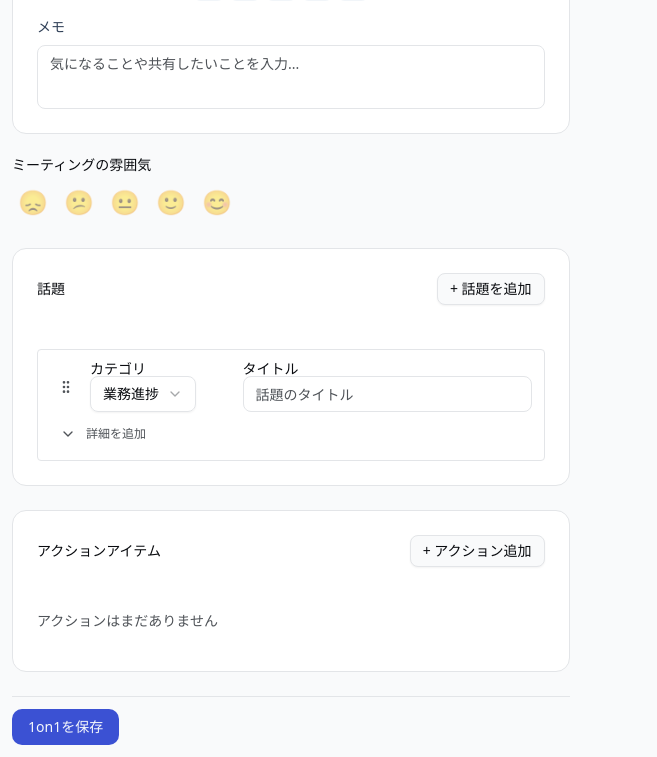
MeetingForm › renders drag handles for action items after adding
(page scrolled)
Click the button "+ アクション追加": click(477, 551) x1=410 y1=535 x2=545 y2=567
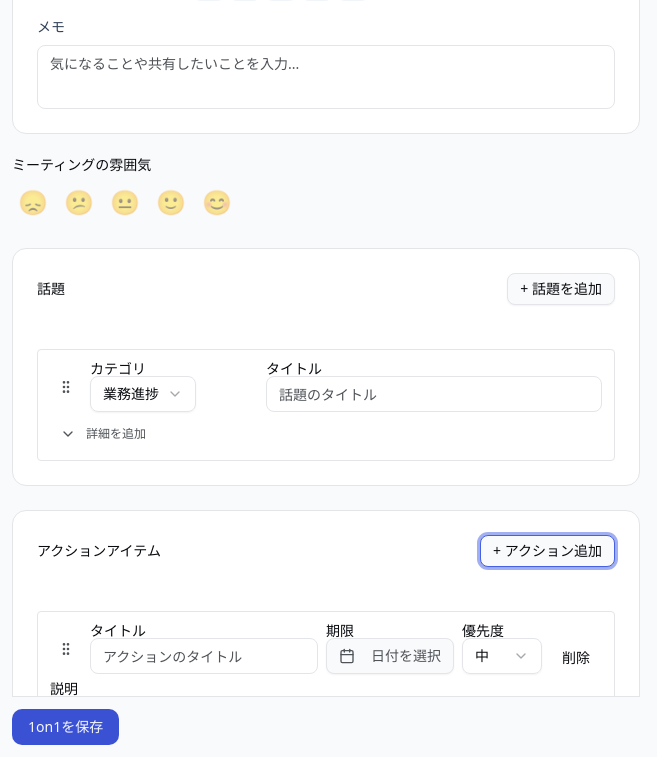
Result: the button with test id "drag-handle-action-0" is shown at x1=50 y1=633 x2=82 y2=665
